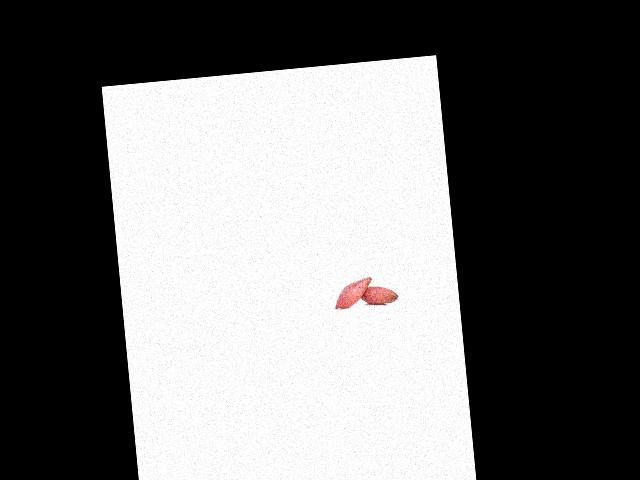sweet_potato: (356, 281, 399, 306)
